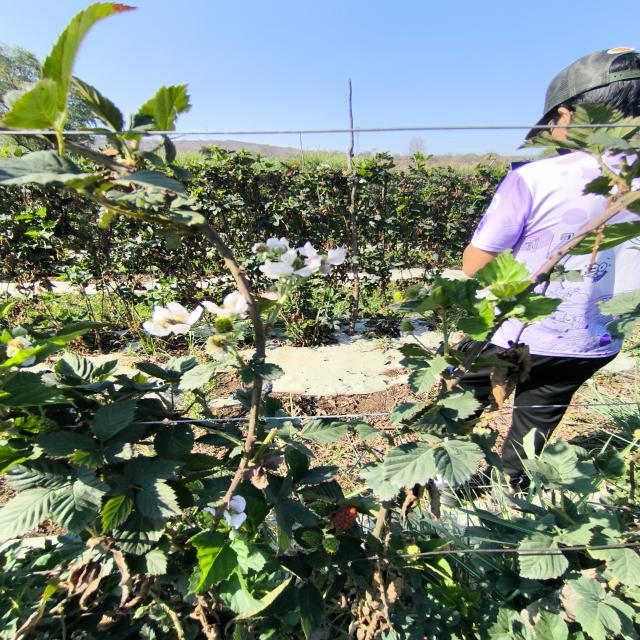flor: (142, 302, 203, 337), (202, 291, 248, 317), (259, 250, 296, 279), (294, 242, 322, 276)
